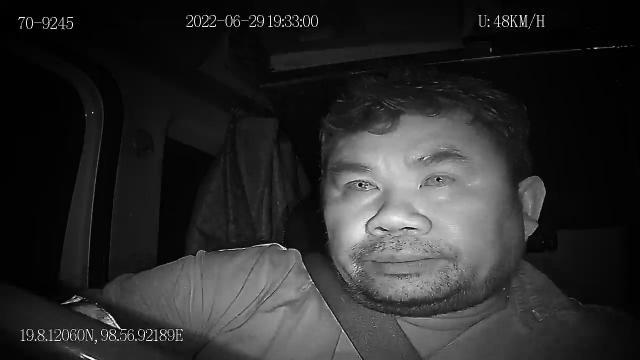SafeDriving: (332, 165, 389, 200), (413, 159, 465, 195)
Seatbelt: (297, 248, 425, 360)
